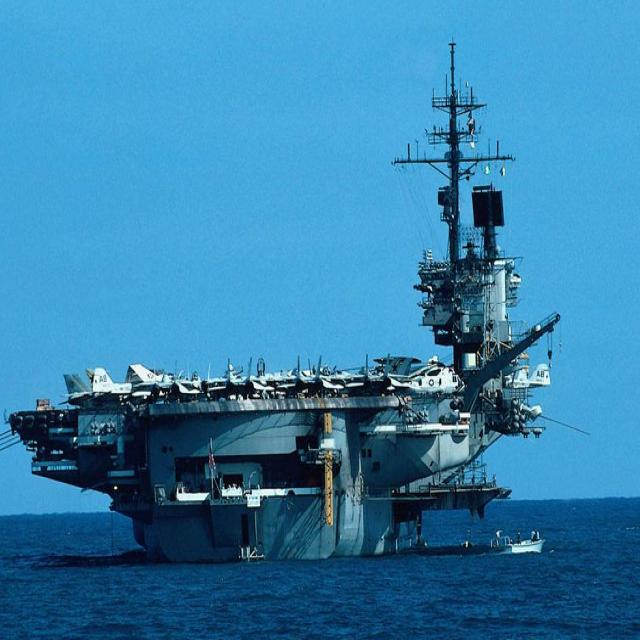navalvessels: (3, 33, 561, 553)
